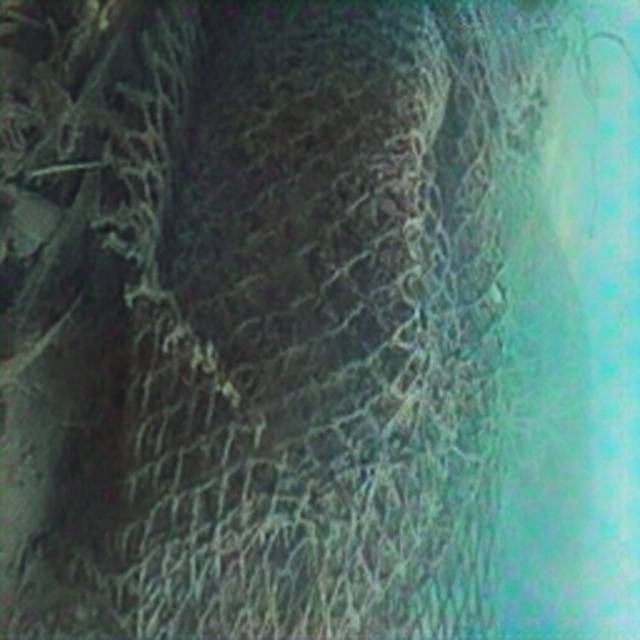mine: (119, 0, 509, 639)
